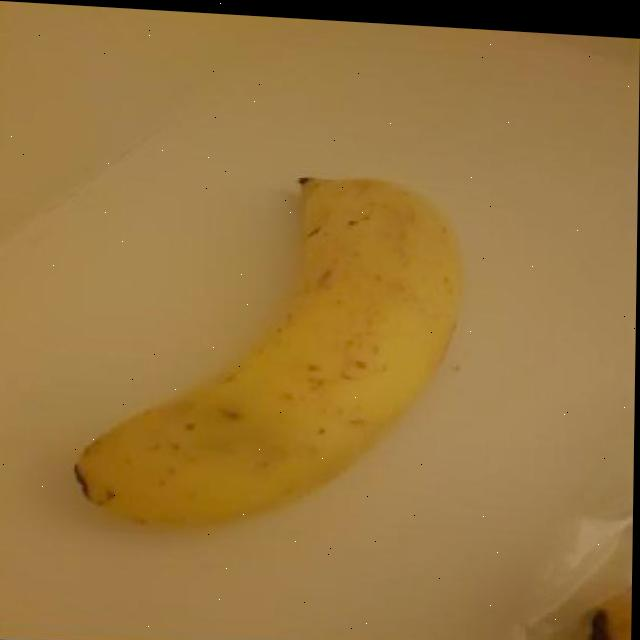banana: (66, 146, 472, 552)
